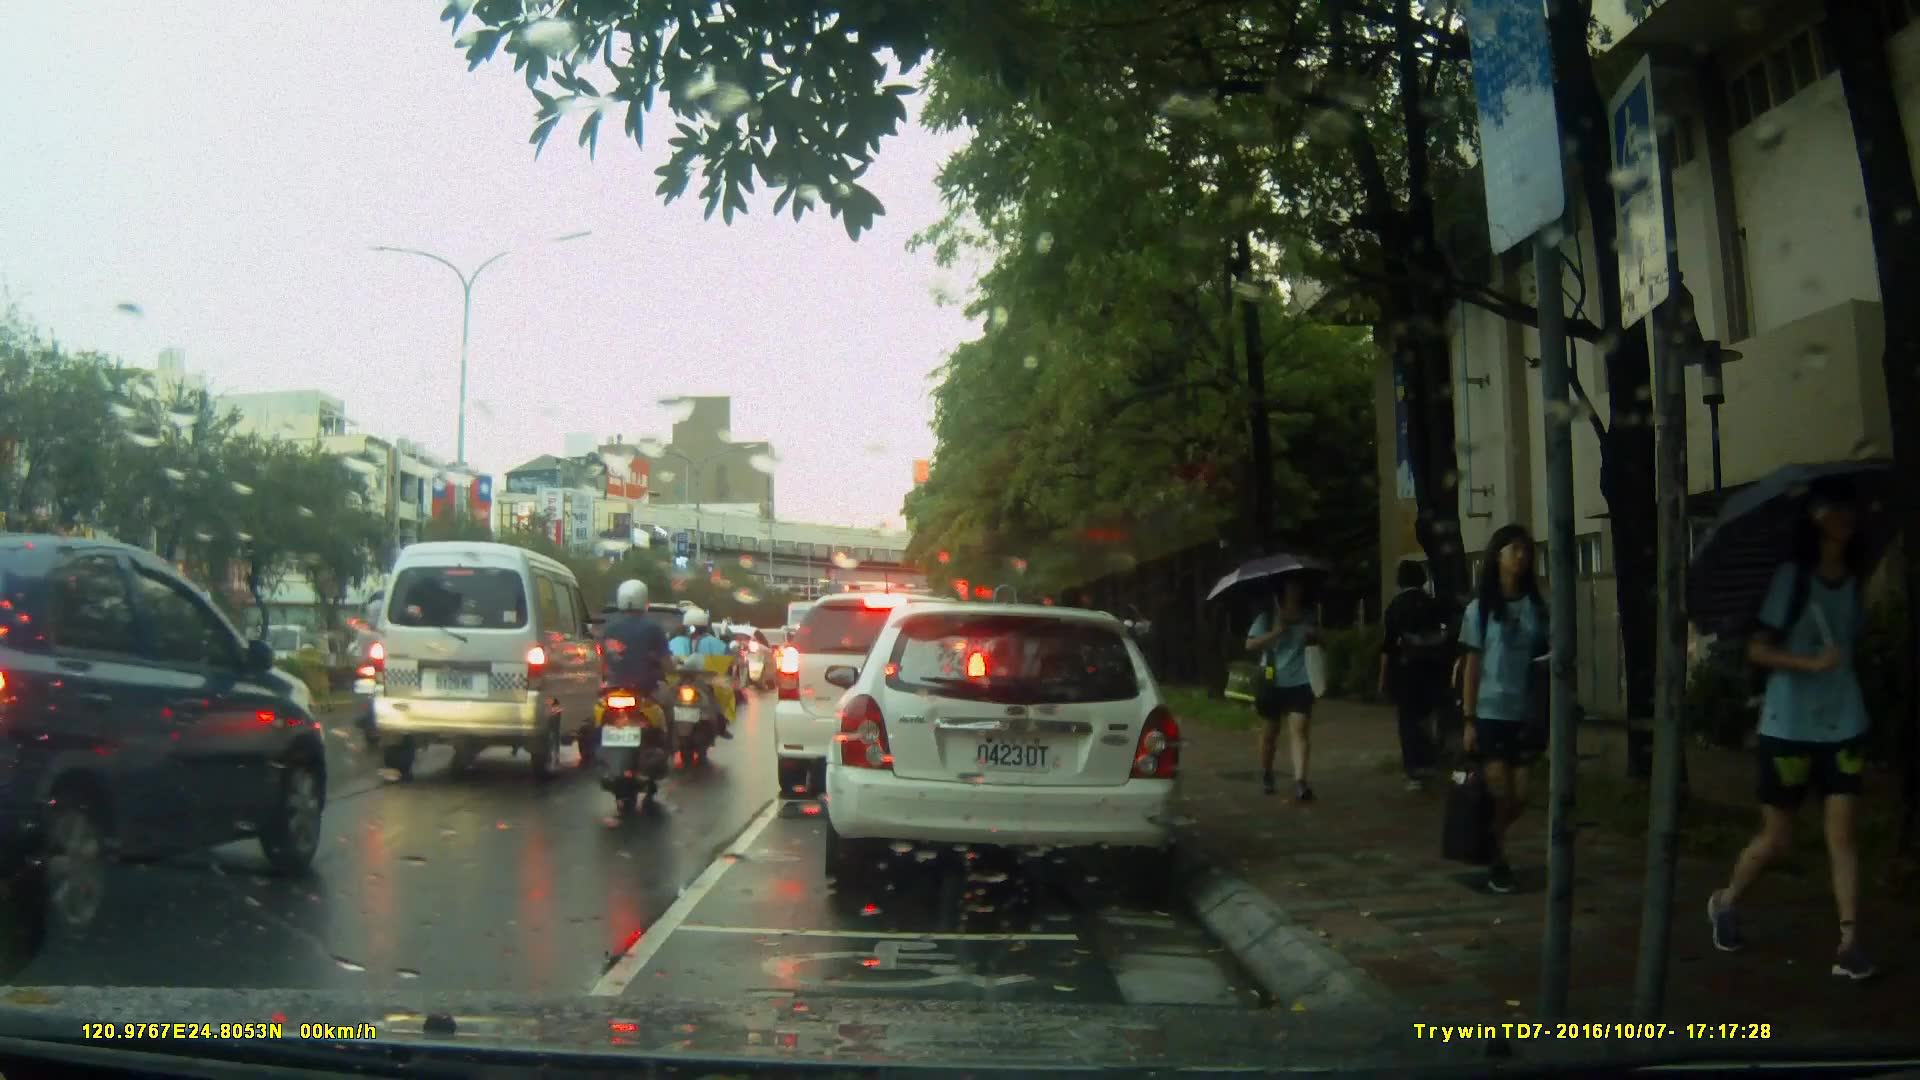pedestrian: (1729, 464, 1895, 998), (1446, 515, 1571, 920), (1246, 560, 1330, 806), (1375, 560, 1459, 804)
rider: (606, 577, 686, 809), (356, 578, 437, 748), (660, 607, 734, 769)
vehicle: (4, 526, 334, 949), (815, 593, 1204, 909), (360, 539, 600, 782), (770, 590, 993, 802), (581, 603, 737, 725)
